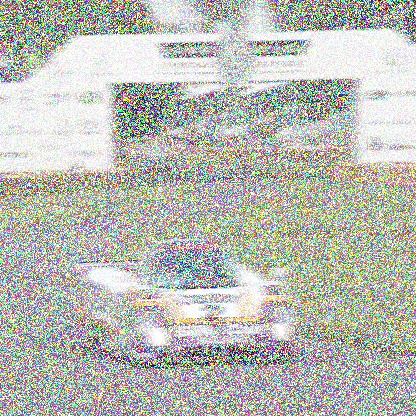Vehicle: (71, 239, 299, 368)
